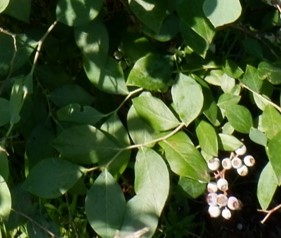Immature: (227, 196, 239, 210), (216, 194, 228, 208), (207, 192, 218, 206), (208, 158, 220, 170), (235, 144, 247, 155), (244, 155, 255, 167), (222, 206, 231, 220), (237, 165, 248, 176), (217, 179, 228, 190), (209, 206, 220, 217), (222, 157, 232, 169), (232, 158, 242, 168), (208, 183, 218, 192)
